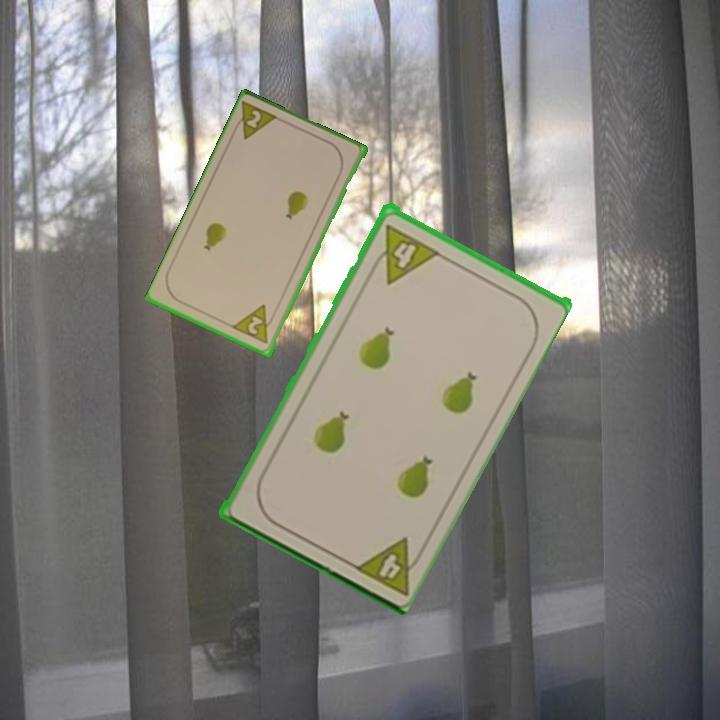2p: (229, 98, 282, 143), (230, 301, 278, 347)
4p: (348, 532, 429, 598), (365, 220, 441, 286)
